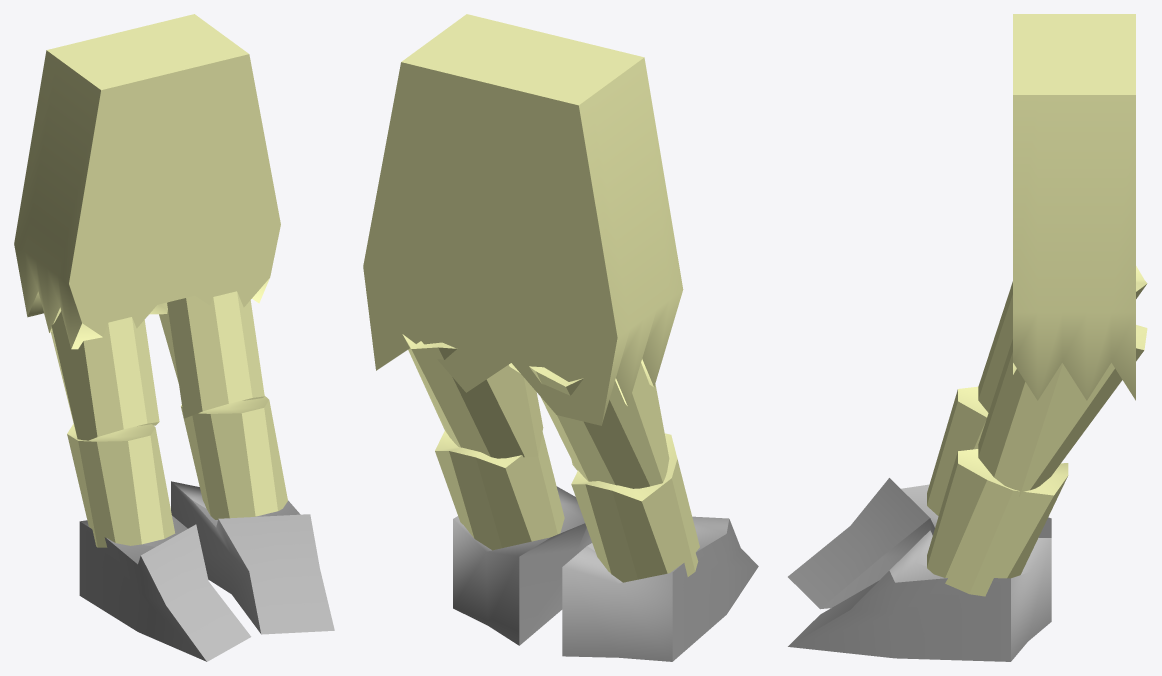
3 renders of one model, left to right at view 1: azimuth 30°, elevation 25°; view 2: azimuth 150°, elevation 25°; view 3: azimuth 270°, elevation 25°, orthographic. The views are drawn at different scales.
Parts seen in each view (by area): view 1: Foot_base, toe_R, toe_L, Segment_1_R, Segment_1_L, Segment_2_L, Segment_2_R; view 2: Foot_base, toe_R, toe_L, Segment_1_R, Segment_1_L, Segment_2_R, Segment_2_L; view 3: Foot_base, toe_L, Segment_1_L, Segment_2_L, toe_R, Segment_1_R, Segment_2_R.
Boxes of the visible parts, left/top/right/bottom form: Foot_base: left=14, top=14, right=280, bottom=349; toe_R: left=79, top=515, right=251, bottom=661; toe_L: left=171, top=481, right=334, bottom=634; Segment_1_R: left=67, top=424, right=175, bottom=547; Segment_1_L: left=181, top=396, right=287, bottom=519; Segment_2_L: left=159, top=291, right=264, bottom=418; Segment_2_R: left=51, top=311, right=159, bottom=440; Foot_base: left=363, top=14, right=683, bottom=425; toe_R: left=562, top=516, right=758, bottom=661; toe_L: left=453, top=486, right=591, bottom=645; Segment_1_R: left=571, top=433, right=699, bottom=582; Segment_1_L: left=435, top=431, right=564, bottom=550; Segment_2_R: left=529, top=363, right=669, bottom=488; Segment_2_L: left=402, top=334, right=543, bottom=458; Foot_base: left=1013, top=14, right=1135, bottom=400; toe_L: left=788, top=530, right=1051, bottom=661; Segment_1_L: left=927, top=449, right=1068, bottom=596; Segment_2_L: left=978, top=325, right=1147, bottom=496; toe_R: left=788, top=478, right=1051, bottom=609; Segment_1_R: left=927, top=386, right=988, bottom=515; Segment_2_R: left=978, top=266, right=1147, bottom=412.
Size of the model in its own units: 2.83 by 6.38 by 3.72.
